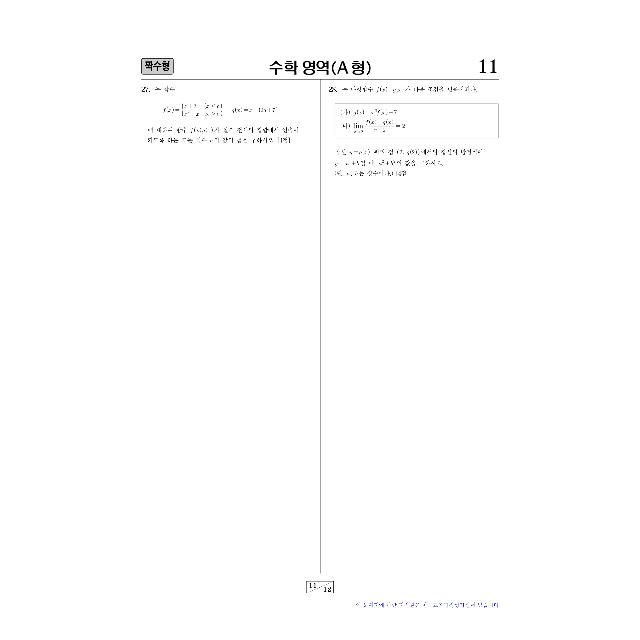short: (324, 82, 504, 188), (137, 82, 317, 152)
